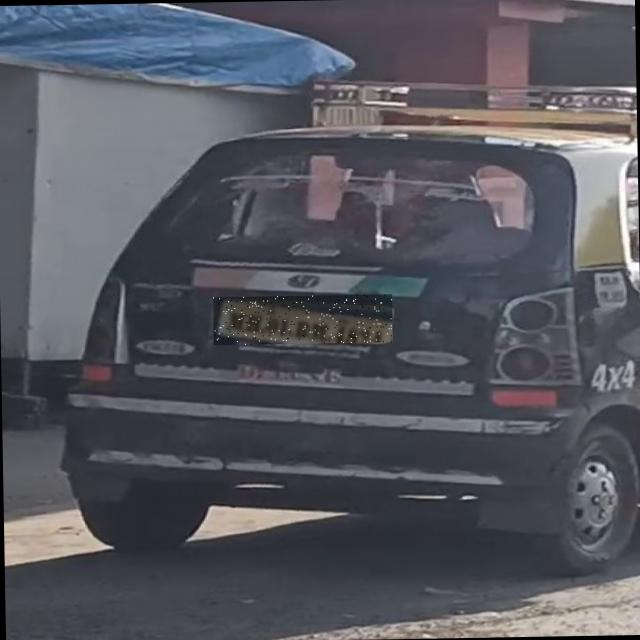Plate: (214, 295, 394, 346)
